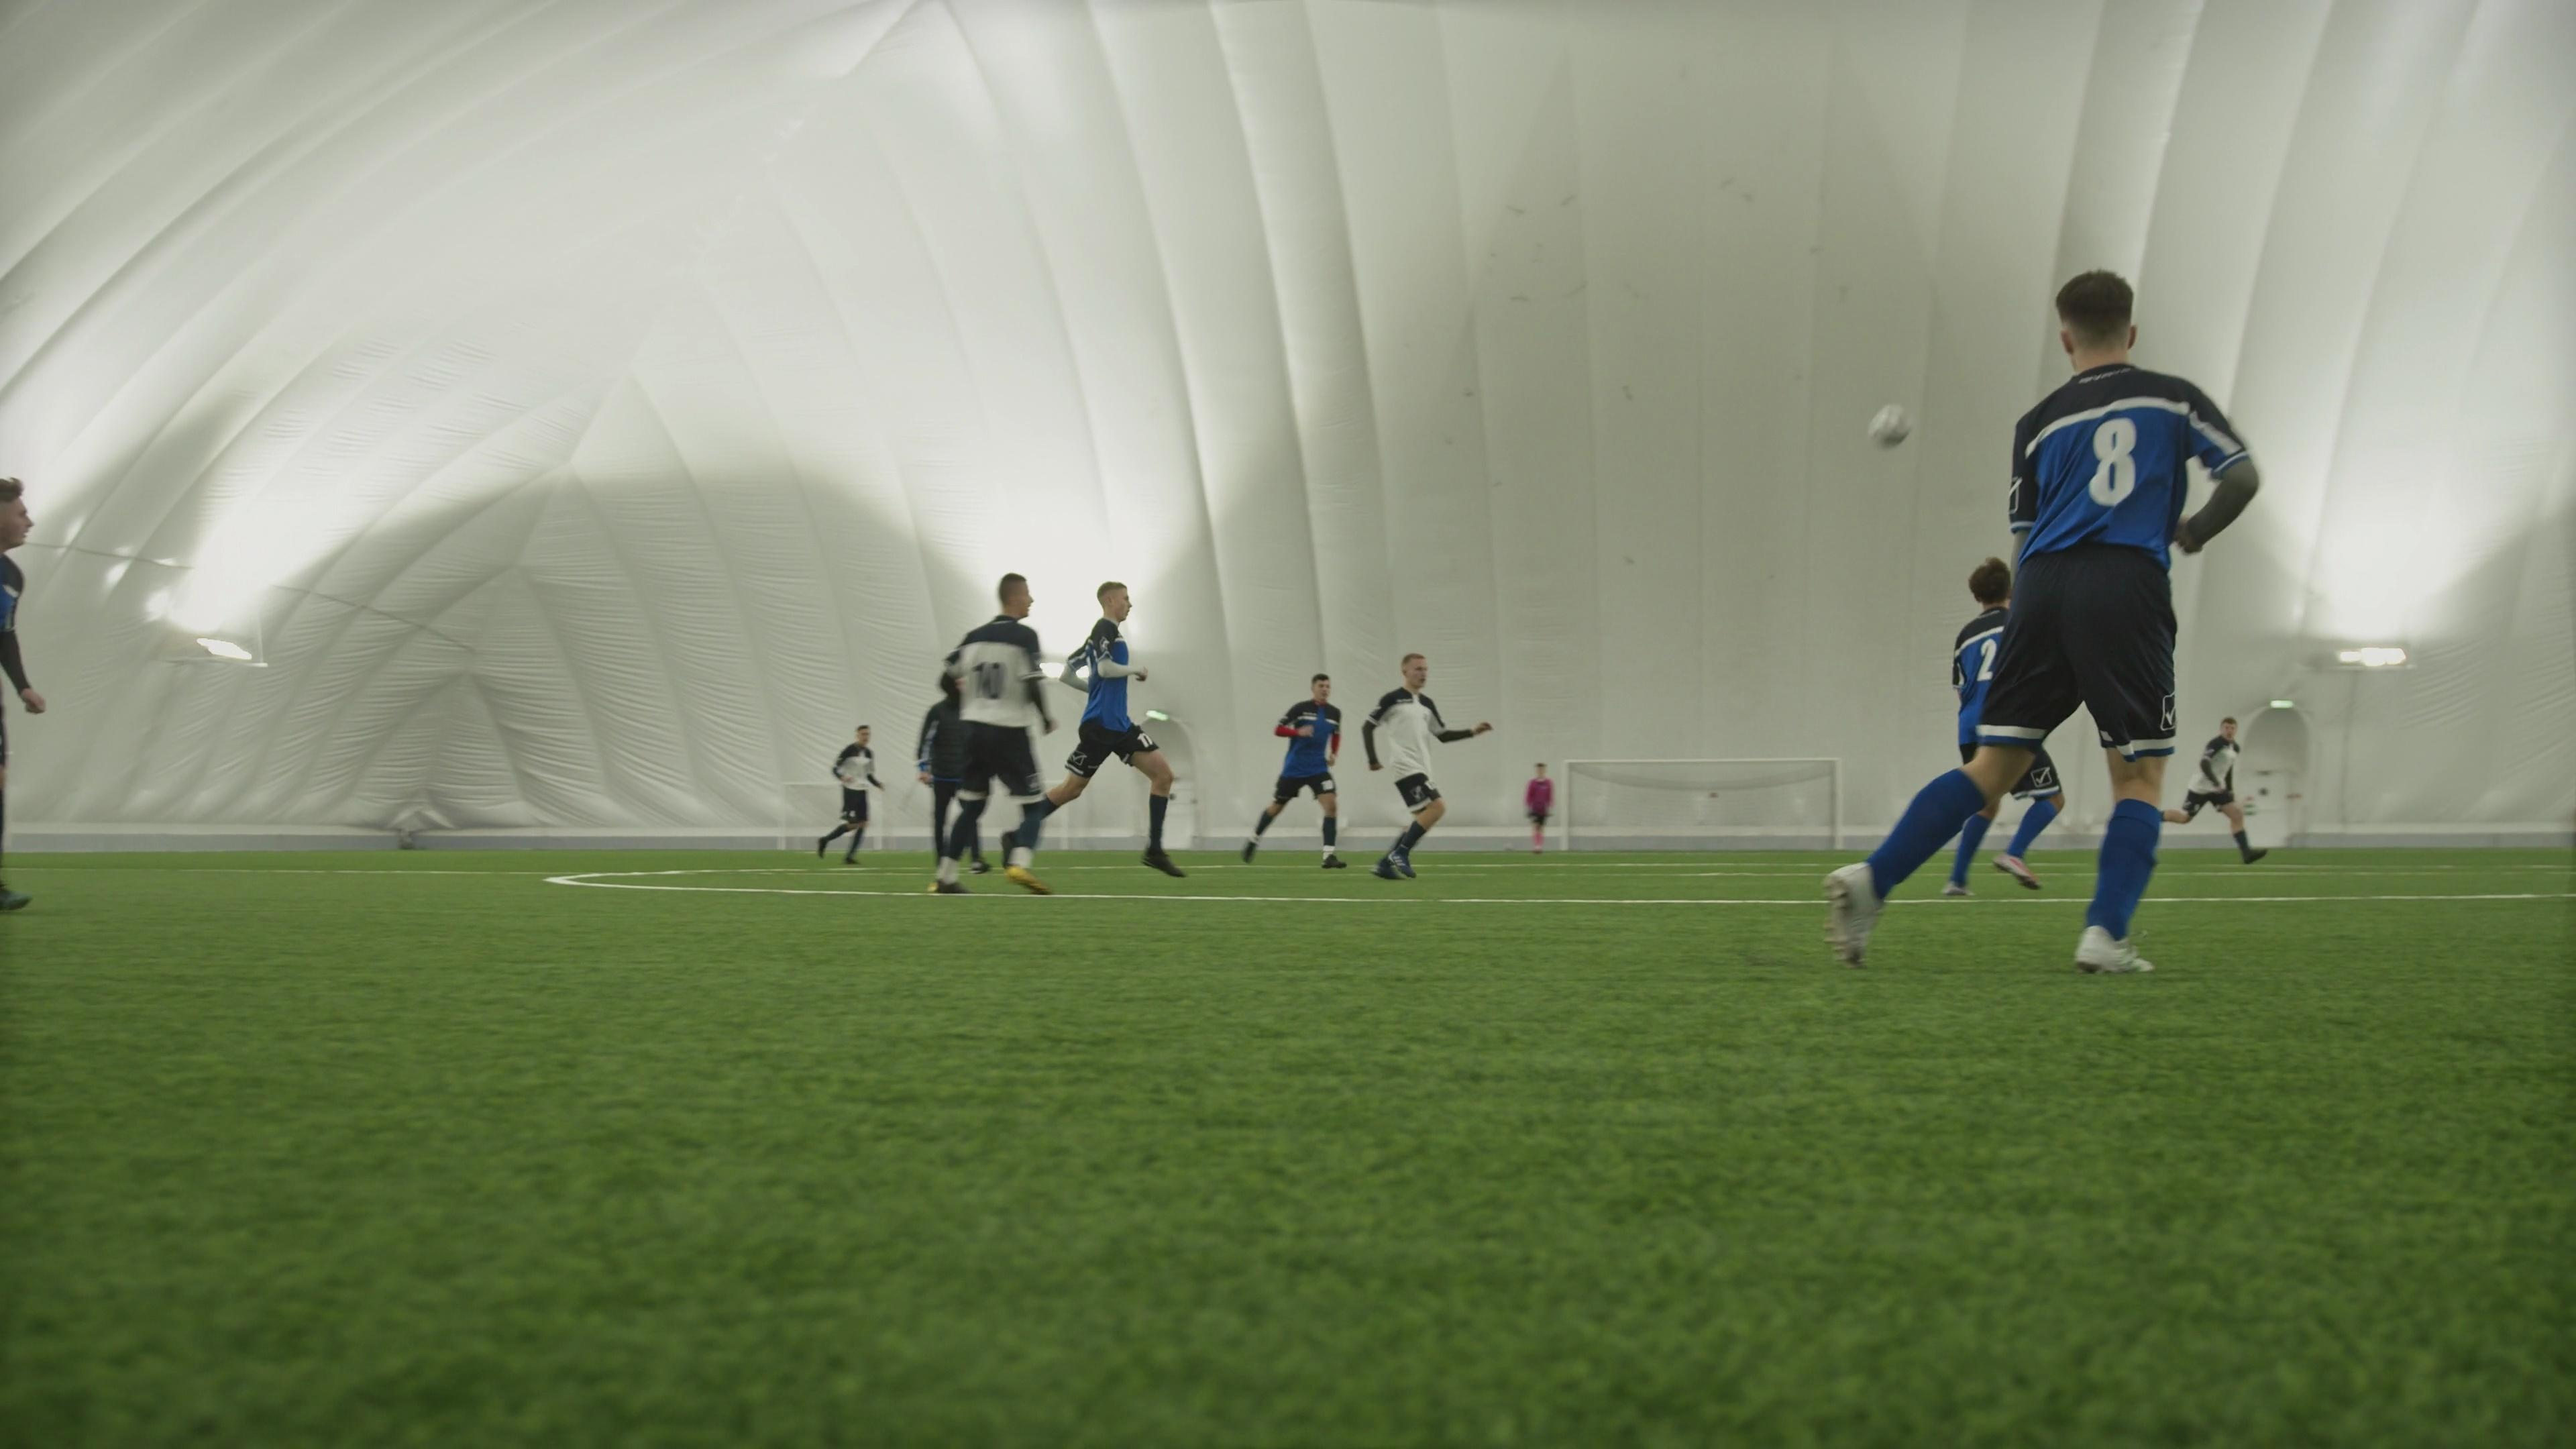other: (920, 665, 971, 879)
team1: (1928, 267, 2261, 980), (1826, 557, 2063, 970), (1008, 577, 1180, 878), (1242, 671, 1348, 863), (0, 467, 42, 916)
team1gk: (1525, 761, 1555, 851)
team2: (931, 573, 1056, 892), (1366, 648, 1488, 883), (2187, 713, 2259, 863), (821, 727, 883, 867)
